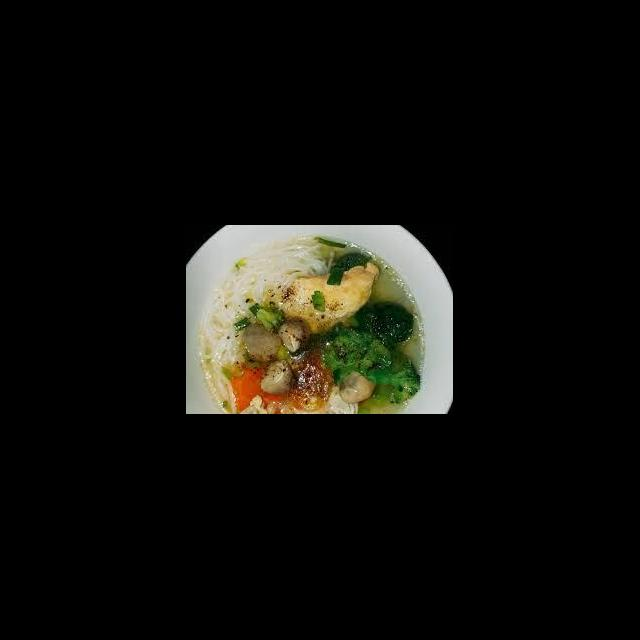bun: (198, 236, 334, 372)
